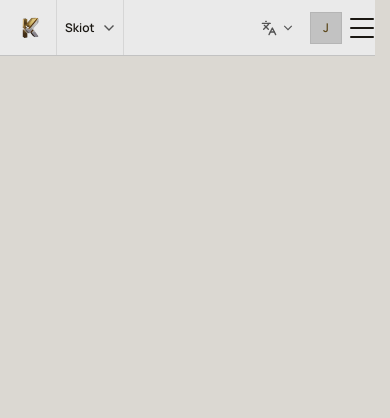
Scenario: AppNavbar.vue — sesión e idioma › el hamburger declara qué controla y si está abierto
Click the button with class "hamburger" at (362, 28), box [350,18,374,38]
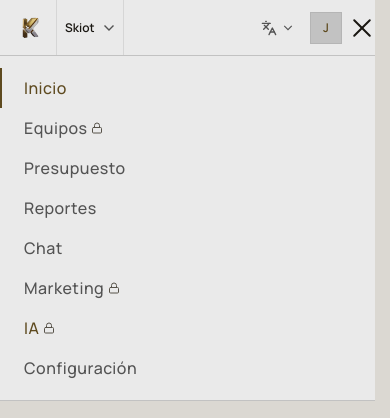
Expected: the button with class "hamburger" is expanded, [350,18,374,38]
